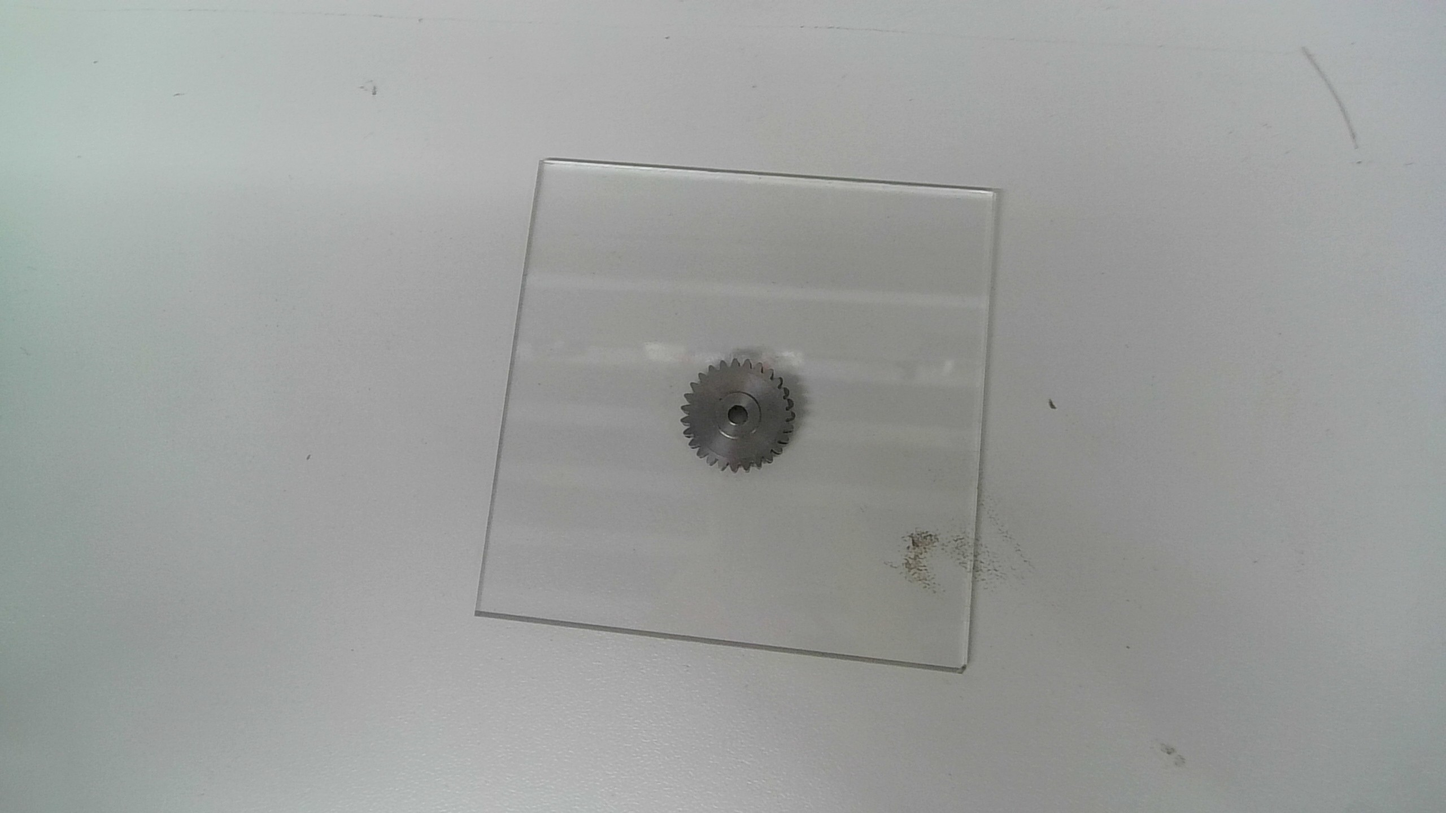gear: (676, 352, 798, 477)
